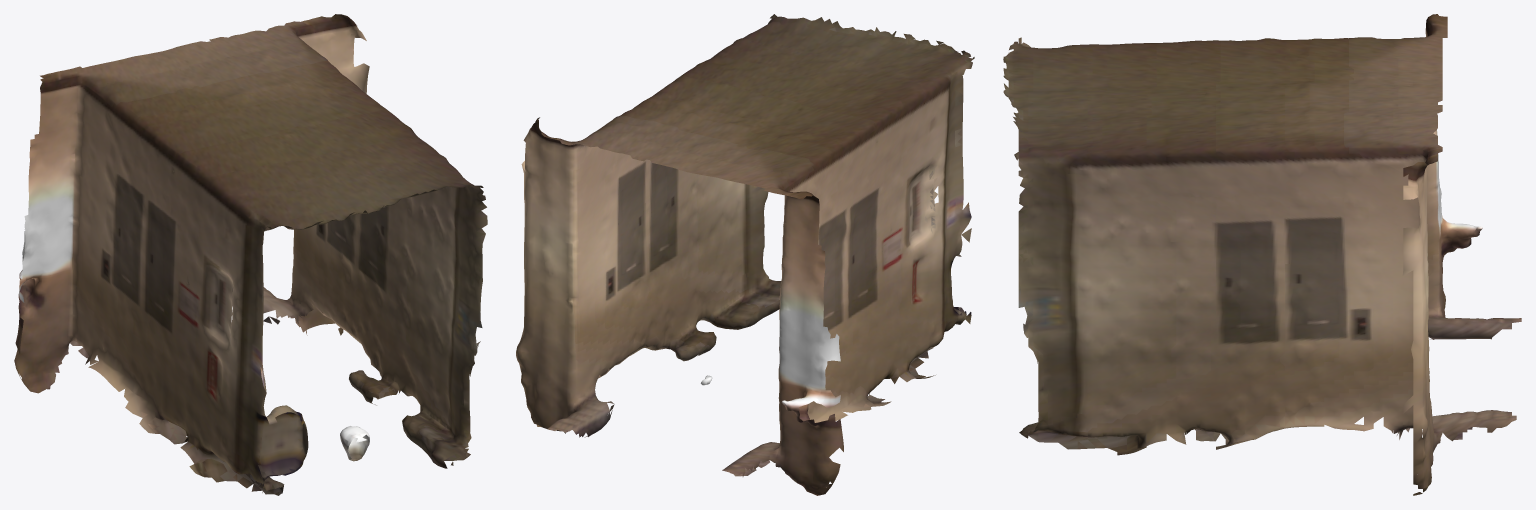
Rendered from Hall1.obj.
The picture shows the model from 3 angles, left to right: view 1: azimuth 30°, elevation 25°; view 2: azimuth 150°, elevation 25°; view 3: azimuth 270°, elevation 25°; orthographic projection. The views are drawn at different scales.
Size of the model in its own units: 4.06 by 3.61 by 5.06.
Materials: 1 (1 with a texture image).
